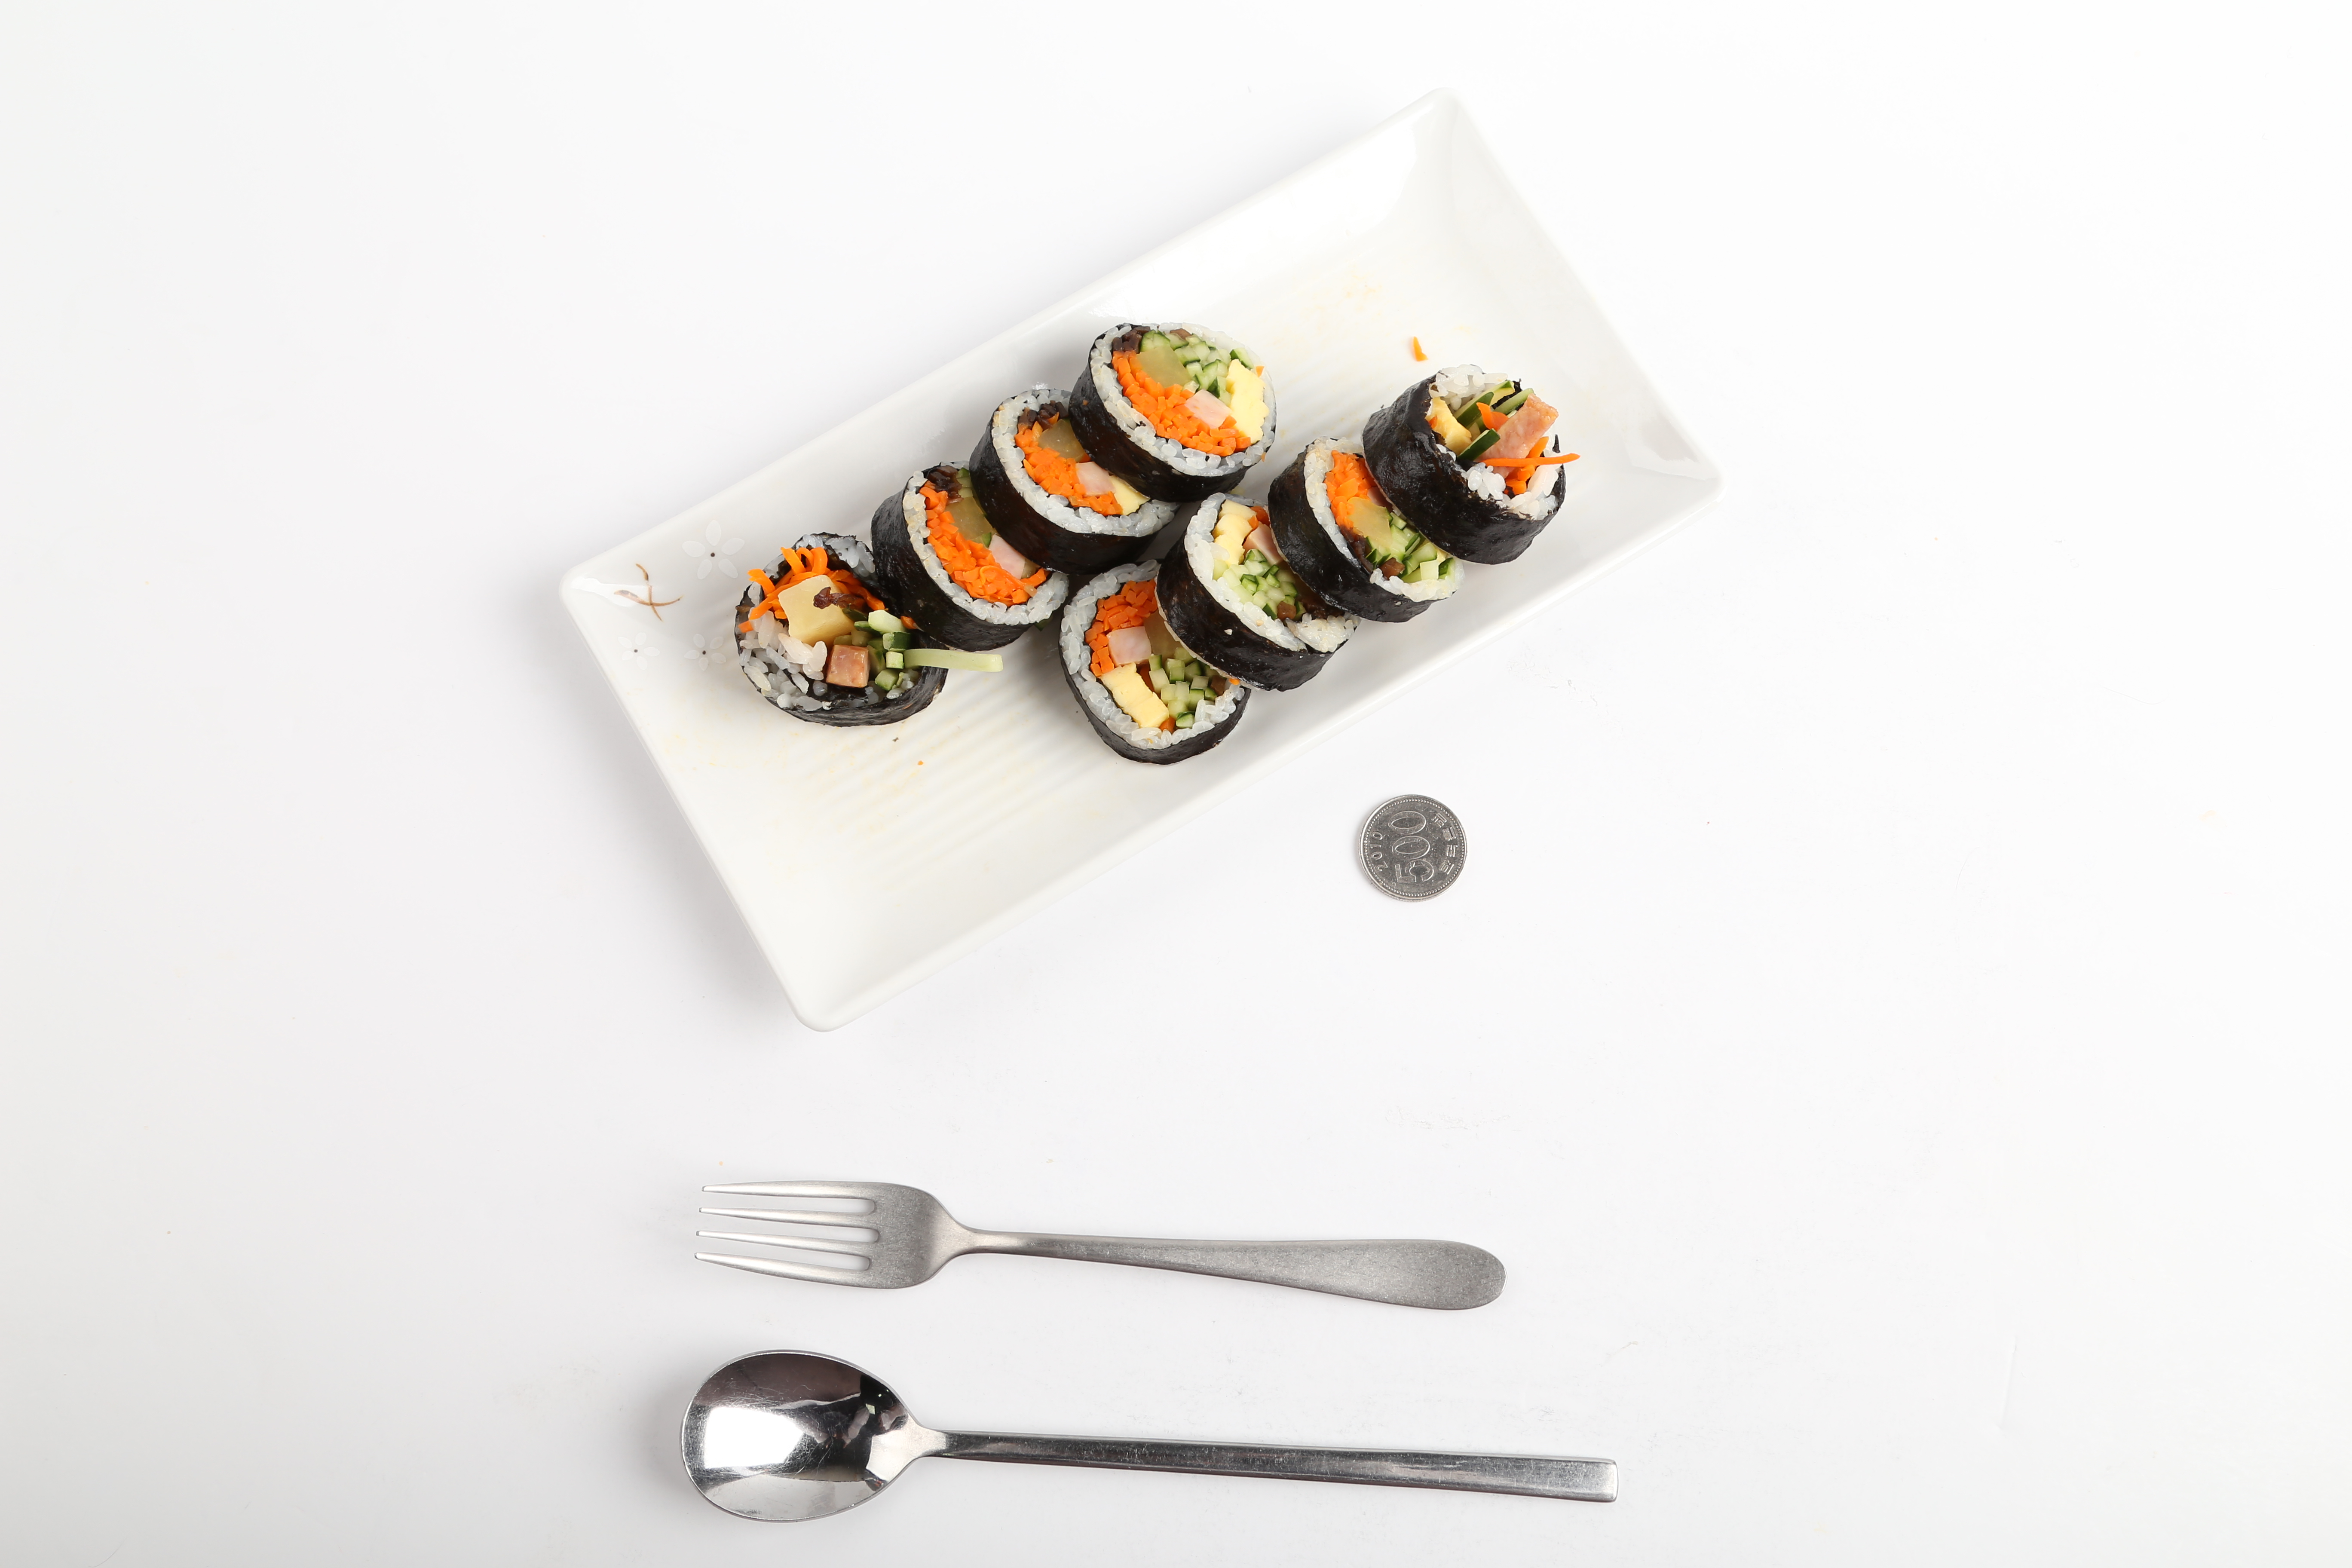dish: (572, 93, 1729, 1039)
ref_coin: (1347, 789, 1470, 905)
ref_fork: (693, 1179, 1015, 1295)
ref_spoon: (681, 1347, 992, 1528)
김밥: (730, 311, 1564, 772)
